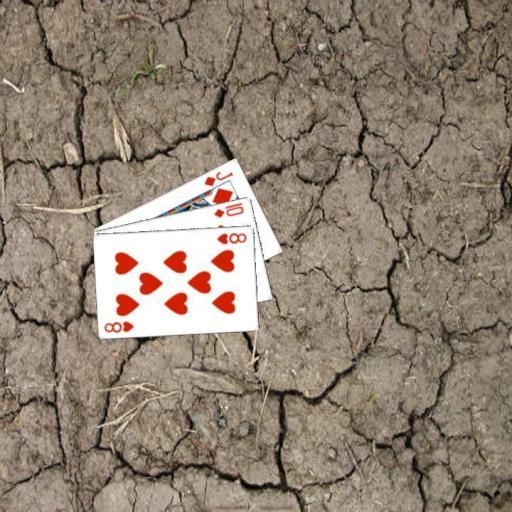10D: (212, 199, 246, 219)
8H: (214, 229, 249, 245), (102, 318, 135, 333)
JD: (201, 168, 235, 188)
